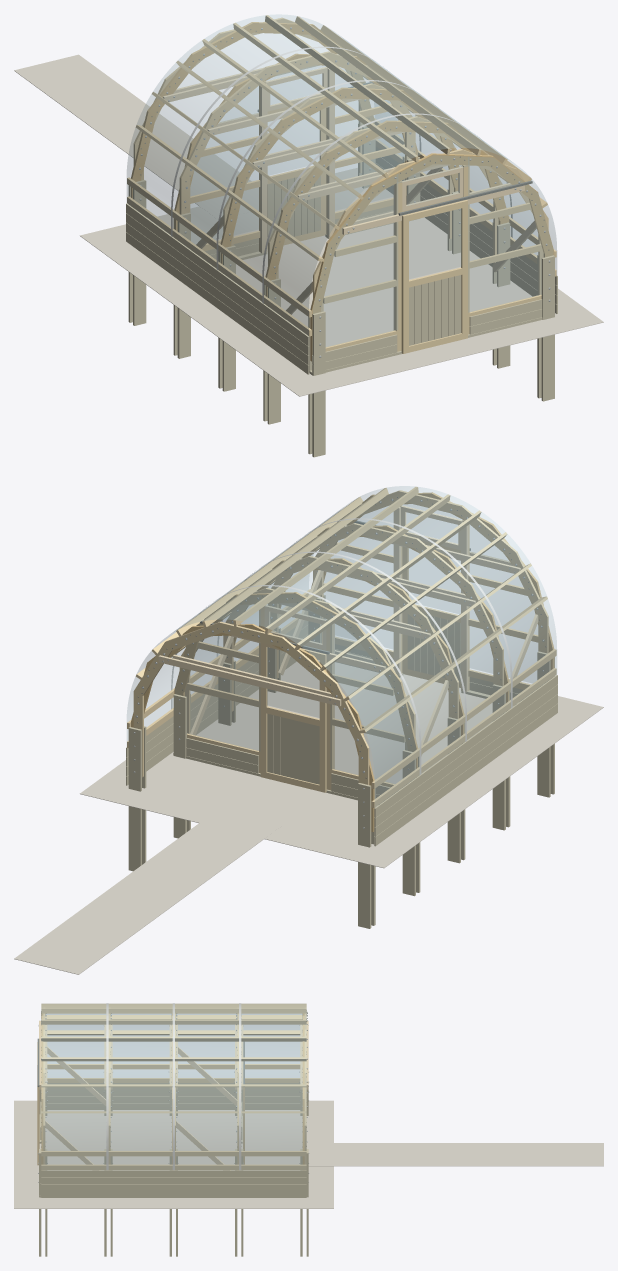
3 renders of one model, top to bottom at view 1: azimuth 30°, elevation 25°; view 2: azimuth 150°, elevation 25°; view 3: azimuth 270°, elevation 25°, orthographic. The views are drawn at different scales.
Visible parts, largest first — view 1: n5, n510, n434, n432, n477, n507, n497, n487, n474, n504, n484, n494 (+70 smaller); view 2: n5, n510, n507, n477, n487, n497, n356, n354, n504, n474, n484, n494 (+55 smaller); view 3: n5, n501, n471, n481, n491, n510, n504, n474, n484, n494, n487, n507 (+36 smaller).
Part boxes in pixels (left/top/right/bottom): n5: left=80, top=168, right=603, bottom=396; n510: left=14, top=54, right=258, bottom=219; n434: left=468, top=157, right=553, bottom=312; n432: left=313, top=174, right=397, bottom=346; n477: left=264, top=162, right=358, bottom=335; n507: left=127, top=62, right=220, bottom=234; n497: left=173, top=95, right=266, bottom=268; n487: left=218, top=129, right=311, bottom=301; n474: left=314, top=115, right=504, bottom=194; n504: left=177, top=14, right=364, bottom=93; n484: left=269, top=81, right=455, bottom=159; n494: left=224, top=48, right=411, bottom=126; n5: left=80, top=660, right=603, bottom=868; n510: left=14, top=809, right=282, bottom=974; n507: left=325, top=634, right=419, bottom=807; n477: left=463, top=533, right=556, bottom=706; n487: left=417, top=567, right=510, bottom=739; n497: left=372, top=600, right=464, bottom=773; n356: left=175, top=596, right=260, bottom=750; n354: left=330, top=614, right=415, bottom=783; n504: left=180, top=586, right=368, bottom=665; n474: left=318, top=486, right=505, bottom=564; n484: left=273, top=519, right=459, bottom=597; n494: left=226, top=553, right=414, bottom=631; n5: left=14, top=1100, right=333, bottom=1208; n501: left=241, top=1058, right=306, bottom=1169; n471: left=41, top=1058, right=105, bottom=1169; n481: left=109, top=1058, right=172, bottom=1169; n491: left=175, top=1058, right=238, bottom=1169; n510: left=306, top=1143, right=603, bottom=1166; n504: left=241, top=1004, right=306, bottom=1057; n474: left=41, top=1004, right=105, bottom=1057; n484: left=109, top=1004, right=172, bottom=1057; n494: left=175, top=1004, right=238, bottom=1057; n487: left=111, top=1014, right=170, bottom=1077; n507: left=242, top=1014, right=301, bottom=1077.
Bounding box in the file's own units: 4.7 × 4.07 × 10.84.
